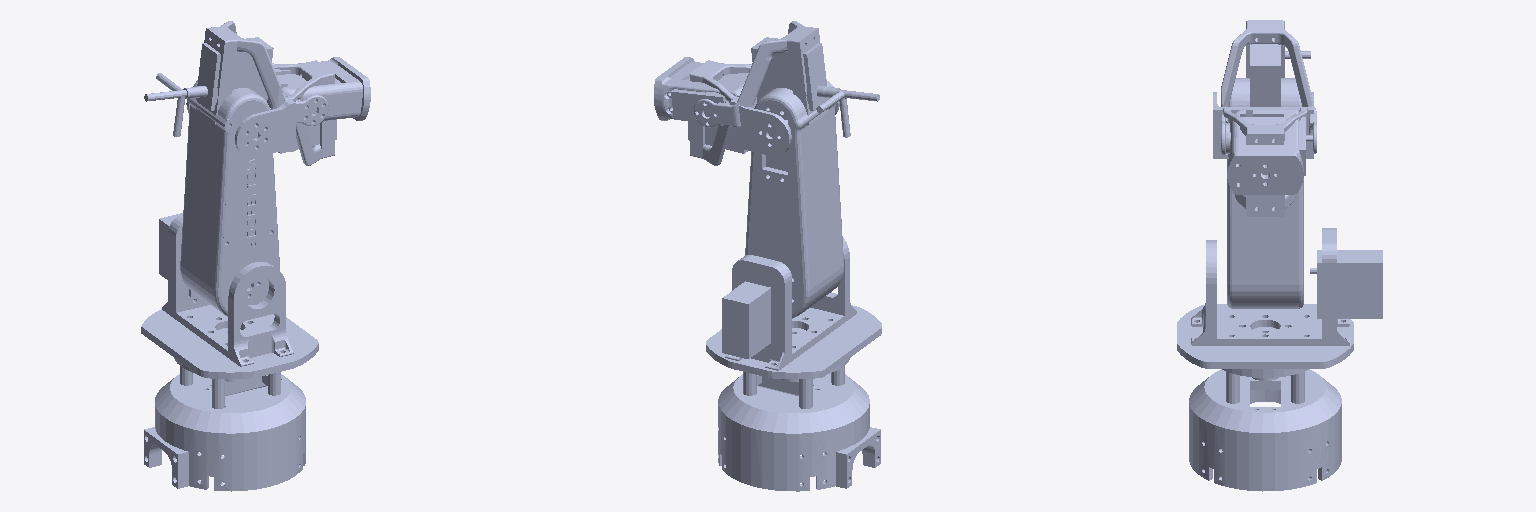
The robot description file, URDF, robot "6DOF-1":
<?xml version="1.0" encoding="utf-8"?>
<!-- This URDF was automatically created by SolidWorks to URDF Exporter! Originally created by [author] ([email redacted]) 
     Commit Version: 1.6.0-4-g7f85cfe  Build Version: 1.6.7995.38578
     For more information, please see http://wiki.ros.org/sw_urdf_exporter -->
<robot
  name="6DOF-1">
  <link
    name="base_link">
    <inertial>
      <origin
        xyz="-0.00110741924808116 -4.63442087388909E-10 0.0344778984694044"
        rpy="0 0 0" />
      <mass
        value="0.102984182840187" />
      <inertia
        ixx="0.000113175808138268"
        ixy="-2.37847055690234E-12"
        ixz="1.25988825693905E-06"
        iyy="0.000111636571656095"
        iyz="-2.7669972829467E-14"
        izz="0.000177704971713128" />
    </inertial>
    <visual>
      <origin
        xyz="0 0 0"
        rpy="0 0 0" />
      <geometry>
        <mesh
          filename="package://6DOF-1/meshes/base_link.STL" />
      </geometry>
      <material
        name="">
        <color
          rgba="0.792156862745098 0.819607843137255 0.933333333333333 1" />
      </material>
    </visual>
    <collision>
      <origin
        xyz="0 0 0"
        rpy="0 0 0" />
      <geometry>
        <mesh
          filename="package://6DOF-1/meshes/base_link.STL" />
      </geometry>
    </collision>
  </link>
  <link
    name="link1">
    <inertial>
      <origin
        xyz="-3.34980450899755E-18 7.60292708783696E-18 0.00768400798485966"
        rpy="0 0 0" />
      <mass
        value="0.0310803491224525" />
      <inertia
        ixx="1.40134028080616E-05"
        ixy="-1.82112083659675E-20"
        ixz="1.66386680899262E-21"
        iyy="1.40134028080616E-05"
        iyz="-4.58391666775699E-21"
        izz="2.34369863631789E-05" />
    </inertial>
    <visual>
      <origin
        xyz="0 0 0"
        rpy="0 0 0" />
      <geometry>
        <mesh
          filename="package://6DOF-1/meshes/link1.STL" />
      </geometry>
      <material
        name="">
        <color
          rgba="0.792156862745098 0.819607843137255 0.933333333333333 1" />
      </material>
    </visual>
    <collision>
      <origin
        xyz="0 0 0"
        rpy="0 0 0" />
      <geometry>
        <mesh
          filename="package://6DOF-1/meshes/link1.STL" />
      </geometry>
    </collision>
  </link>
  <joint
    name="joint1"
    type="fixed">
    <origin
      xyz="0 0 0.085"
      rpy="-3.14159265358979 0 2.35619449019235" />
    <parent
      link="base_link" />
    <child
      link="link1" />
    <axis
      xyz="0 0 0" />
  </joint>
  <link
    name="link2">
    <inertial>
      <origin
        xyz="-3.30239519859402E-06 0.0407459974530248 -0.0170677308511169"
        rpy="0 0 0" />
      <mass
        value="0.135893196407496" />
      <inertia
        ixx="8.16953377344433E-05"
        ixy="5.16587035195025E-10"
        ixz="-1.77474565863463E-08"
        iyy="0.000103378025391645"
        iyz="-1.88829979905848E-08"
        izz="6.24198094411801E-05" />
    </inertial>
    <visual>
      <origin
        xyz="0 0 0"
        rpy="0 0 0" />
      <geometry>
        <mesh
          filename="package://6DOF-1/meshes/link2.STL" />
      </geometry>
      <material
        name="">
        <color
          rgba="0.792156862745098 0.819607843137255 0.933333333333333 1" />
      </material>
    </visual>
    <collision>
      <origin
        xyz="0 0 0"
        rpy="0 0 0" />
      <geometry>
        <mesh
          filename="package://6DOF-1/meshes/link2.STL" />
      </geometry>
    </collision>
  </link>
  <joint
    name="joint2"
    type="revolute">
    <origin
      xyz="0 0 0.02"
      rpy="-1.5707963267949 0 2.35619449019235" />
    <parent
      link="link1" />
    <child
      link="link2" />
    <axis
      xyz="0 1 0" />
    <limit
      lower="-1.571"
      upper="1.571"
      effort="0"
      velocity="0" />
  </joint>
  <link
    name="link3">
    <inertial>
      <origin
        xyz="8.50321693748761E-07 0.0700666809964495 0.000242164933170987"
        rpy="0 0 0" />
      <mass
        value="0.168619080018837" />
      <inertia
        ixx="0.000251829754899007"
        ixy="2.2489780432108E-09"
        ixz="3.53907671962033E-11"
        iyy="6.27611414007195E-05"
        iyz="-1.12525106949762E-05"
        izz="0.000247294548580202" />
    </inertial>
    <visual>
      <origin
        xyz="0 0 0"
        rpy="0 0 0" />
      <geometry>
        <mesh
          filename="package://6DOF-1/meshes/link3.STL" />
      </geometry>
      <material
        name="">
        <color
          rgba="0.792156862745098 0.819607843137255 0.933333333333333 1" />
      </material>
    </visual>
    <collision>
      <origin
        xyz="0 0 0"
        rpy="0 0 0" />
      <geometry>
        <mesh
          filename="package://6DOF-1/meshes/link3.STL" />
      </geometry>
    </collision>
  </link>
  <joint
    name="joint3"
    type="revolute">
    <origin
      xyz="0 0.0709999999999987 0"
      rpy="3.14159265358979 0 3.14159265358979" />
    <parent
      link="link2" />
    <child
      link="link3" />
    <axis
      xyz="0 0 -1" />
    <limit
      lower="-1.571"
      upper="1.571"
      effort="0"
      velocity="0" />
  </joint>
  <link
    name="link4">
    <inertial>
      <origin
        xyz="-0.00446094542764675 -0.0466732918794309 0.000397011037006413"
        rpy="0 0 0" />
      <mass
        value="0.0649210731217907" />
      <inertia
        ixx="2.39857819480215E-05"
        ixy="-8.99748234220727E-07"
        ixz="-1.17782250045498E-08"
        iyy="2.88000860144655E-05"
        iyz="1.0646943508207E-07"
        izz="2.20427041822064E-05" />
    </inertial>
    <visual>
      <origin
        xyz="0 0 0"
        rpy="0 0 0" />
      <geometry>
        <mesh
          filename="package://6DOF-1/meshes/link4.STL" />
      </geometry>
      <material
        name="">
        <color
          rgba="0.792156862745098 0.819607843137255 0.933333333333333 1" />
      </material>
    </visual>
    <collision>
      <origin
        xyz="0 0 0"
        rpy="0 0 0" />
      <geometry>
        <mesh
          filename="package://6DOF-1/meshes/link4.STL" />
      </geometry>
    </collision>
  </link>
  <joint
    name="joint4"
    type="revolute">
    <origin
      xyz="0 0.112400000000001 0"
      rpy="-3.14159265358978 0 1.63333708859139" />
    <parent
      link="link3" />
    <child
      link="link4" />
    <axis
      xyz="0 0 1" />
    <limit
      lower="-1.571"
      upper="1.571"
      effort="0"
      velocity="0" />
  </joint>
  <link
    name="link5">
    <inertial>
      <origin
        xyz="-0.001624136602215 -0.0278033616376715 -4.00049276069181E-05"
        rpy="0 0 0" />
      <mass
        value="0.0743683685906912" />
      <inertia
        ixx="2.30775454447183E-05"
        ixy="-2.06606910874985E-06"
        ixz="6.41037581818784E-09"
        iyy="1.35033272098979E-05"
        iyz="-7.81187102308463E-08"
        izz="3.00182365494262E-05" />
    </inertial>
    <visual>
      <origin
        xyz="0 0 0"
        rpy="0 0 0" />
      <geometry>
        <mesh
          filename="package://6DOF-1/meshes/link5.STL" />
      </geometry>
      <material
        name="">
        <color
          rgba="0.792156862745098 0.819607843137255 0.933333333333333 1" />
      </material>
    </visual>
    <collision>
      <origin
        xyz="0 0 0"
        rpy="0 0 0" />
      <geometry>
        <mesh
          filename="package://6DOF-1/meshes/link5.STL" />
      </geometry>
    </collision>
  </link>
  <joint
    name="joint5"
    type="revolute">
    <origin
      xyz="0.0054328582689824 -0.0868302025372465 0"
      rpy="3.0790518917933 -1.5707963267949 0" />
    <parent
      link="link4" />
    <child
      link="link5" />
    <axis
      xyz="0 -1 0" />
    <limit
      lower="-1.571"
      upper="1.571"
      effort="0"
      velocity="0" />
  </joint>
  <link
    name="link6">
    <inertial>
      <origin
        xyz="0.0445358733093463 -0.0180820895819283 -0.00215044082073364"
        rpy="0 0 0" />
      <mass
        value="0.0544888447030388" />
      <inertia
        ixx="2.07240772780506E-05"
        ixy="1.74850231865526E-06"
        ixz="-1.71721108289391E-07"
        iyy="1.70230555108236E-05"
        iyz="2.14843265030008E-07"
        izz="2.17585211588375E-05" />
    </inertial>
    <visual>
      <origin
        xyz="0 0 0"
        rpy="0 0 0" />
      <geometry>
        <mesh
          filename="package://6DOF-1/meshes/link6.STL" />
      </geometry>
      <material
        name="">
        <color
          rgba="0.792156862745098 0.819607843137255 0.933333333333333 1" />
      </material>
    </visual>
    <collision>
      <origin
        xyz="0 0 0"
        rpy="0 0 0" />
      <geometry>
        <mesh
          filename="package://6DOF-1/meshes/link6.STL" />
      </geometry>
    </collision>
  </link>
  <joint
    name="joint6"
    type="revolute">
    <origin
      xyz="0.00225 -0.04 0"
      rpy="-1.5708 0 -1.5708" />
    <parent
      link="link5" />
    <child
      link="link6" />
    <axis
      xyz="0 0 1" />
    <limit
      lower="-1.571"
      upper="1.571"
      effort="0"
      velocity="0" />
  </joint>
  <link
    name="link7">
    <inertial>
      <origin
        xyz="-0.00373323929221325 -0.00385606800350293 -0.0173805970971101"
        rpy="0 0 0" />
      <mass
        value="0.00231539418970364" />
      <inertia
        ixx="3.57098871983821E-07"
        ixy="4.07234095114576E-08"
        ixz="1.66638479445446E-08"
        iyy="3.59774075029643E-07"
        iyz="1.72177633493785E-08"
        izz="2.7903747142248E-07" />
    </inertial>
    <visual>
      <origin
        xyz="0 0 0"
        rpy="0 0 0" />
      <geometry>
        <mesh
          filename="package://6DOF-1/meshes/link7.STL" />
      </geometry>
      <material
        name="">
        <color
          rgba="0.792156862745098 0.819607843137255 0.933333333333333 1" />
      </material>
    </visual>
    <collision>
      <origin
        xyz="0 0 0"
        rpy="0 0 0" />
      <geometry>
        <mesh
          filename="package://6DOF-1/meshes/link7.STL" />
      </geometry>
    </collision>
  </link>
  <joint
    name="joint7"
    type="revolute">
    <origin
      xyz="0.0685 -0.01 -0.00225"
      rpy="1.5708 0 -1.5708" />
    <parent
      link="link6" />
    <child
      link="link7" />
    <axis
      xyz="0 0 -1" />
    <limit
      lower="-3.14"
      upper="3.14"
      effort="0"
      velocity="0" />
  </joint>
</robot>

--- Render facts (derived) ---
Views: 3 orthographic renders of the robot side by side, from view 1: azimuth 30°, elevation 25°; view 2: azimuth 150°, elevation 25°; view 3: azimuth 270°, elevation 25°.
Robot: 6DOF-1 — 8 links, 7 joints (6 revolute, 1 fixed); root link base_link; default pose: all joints at 0.
Links seen in each view (by area): view 1: link3, base_link, link2, link6, link4, link5, link7, link1; view 2: base_link, link3, link2, link6, link4, link5, link7, link1; view 3: link2, base_link, link3, link6, link5, link4, link1.
Boxes of the visible links, box(x1,y1,x2,y2) form: link3: box(180, 80, 279, 316); base_link: box(144, 373, 305, 491); link2: box(141, 213, 318, 381); link6: box(196, 21, 328, 125); link4: box(186, 60, 336, 165); link5: box(267, 57, 370, 120); link7: box(144, 73, 207, 136); link1: box(180, 366, 280, 408); base_link: box(718, 373, 880, 491); link3: box(745, 79, 843, 318); link2: box(706, 237, 881, 381); link6: box(694, 21, 828, 127); link4: box(688, 60, 839, 165); link5: box(654, 57, 756, 123); link7: box(816, 86, 879, 137); link1: box(743, 366, 844, 408); link2: box(1177, 228, 1382, 380); base_link: box(1189, 369, 1341, 491); link3: box(1227, 78, 1303, 308); link6: box(1221, 20, 1316, 154); link5: box(1227, 109, 1312, 194); link4: box(1213, 92, 1313, 216); link1: box(1226, 372, 1304, 403).
Bounding box of the posed robot: 0.1582 × 0.135 × 0.3112 m (x, y, z).
8 mesh visuals loaded from 8 distinct referenced files (8 binary STL).